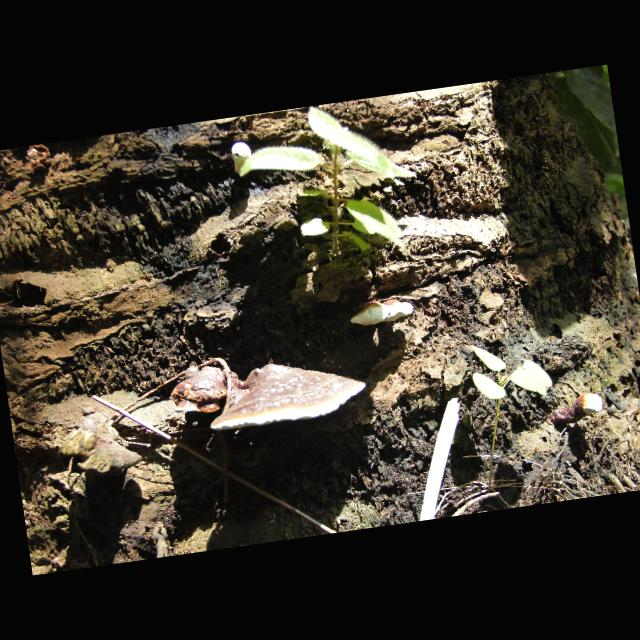ganoderma: (203, 352, 371, 436), (166, 362, 243, 420), (349, 296, 417, 330)
primordium: (230, 141, 255, 176), (575, 392, 606, 419)
